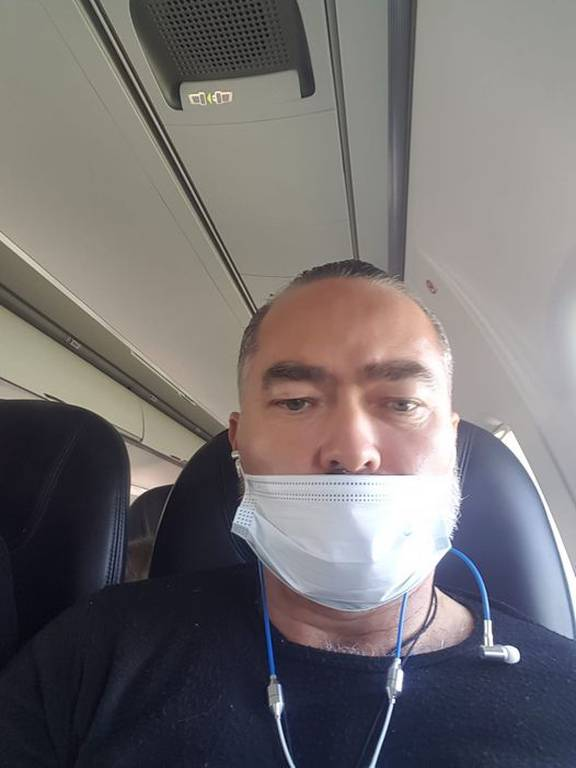with_incorrect_mask: (245, 338, 459, 596)
